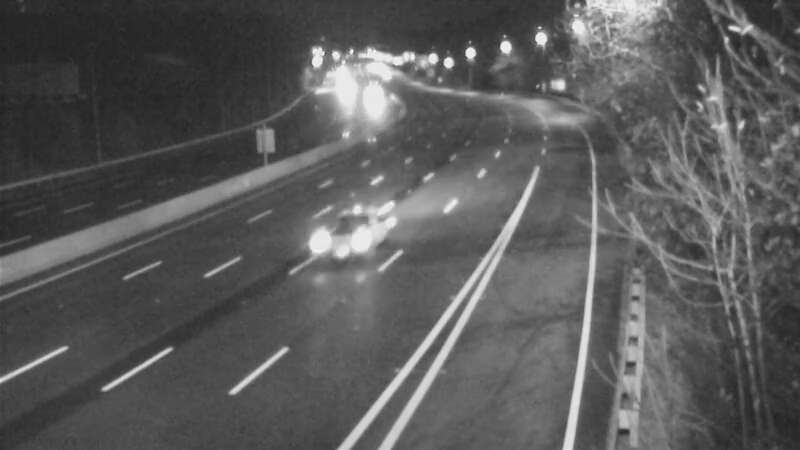vehicle: (291, 205, 371, 285), (346, 81, 396, 131), (323, 70, 373, 120)
